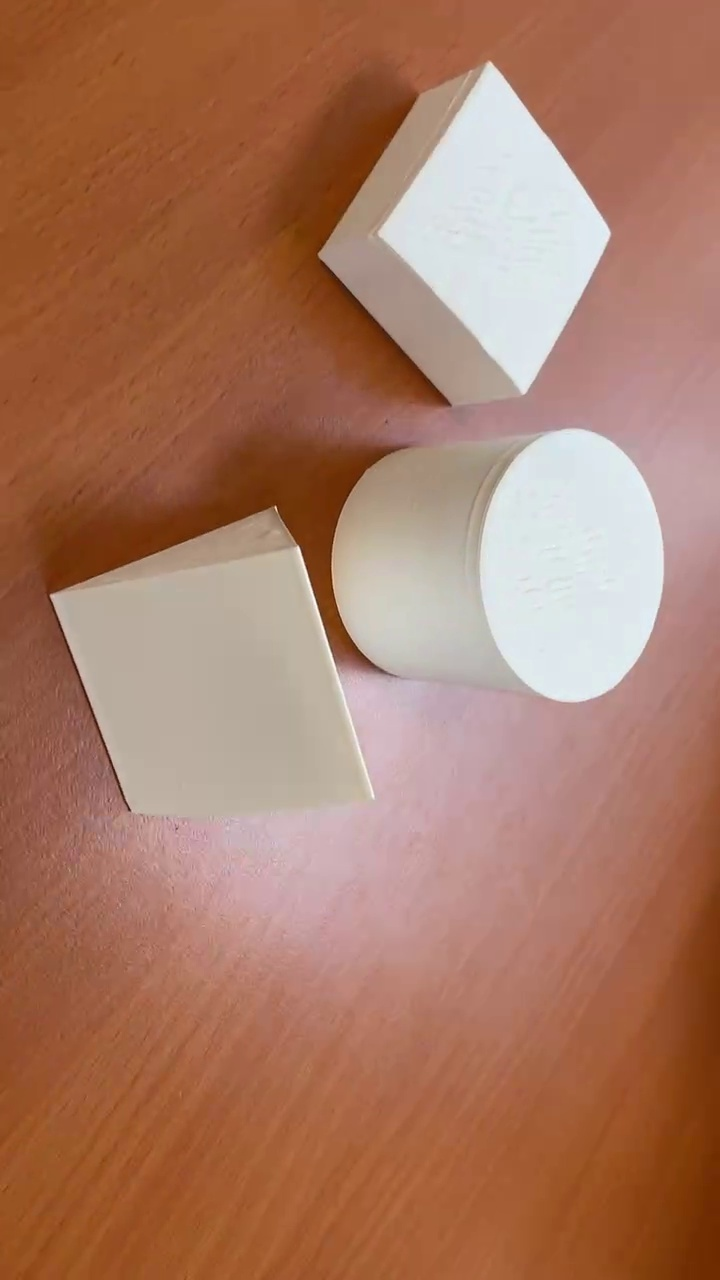Cube_short: (307, 59, 612, 409)
Cylinder: (331, 427, 663, 707)
Triangle: (45, 498, 375, 818)
